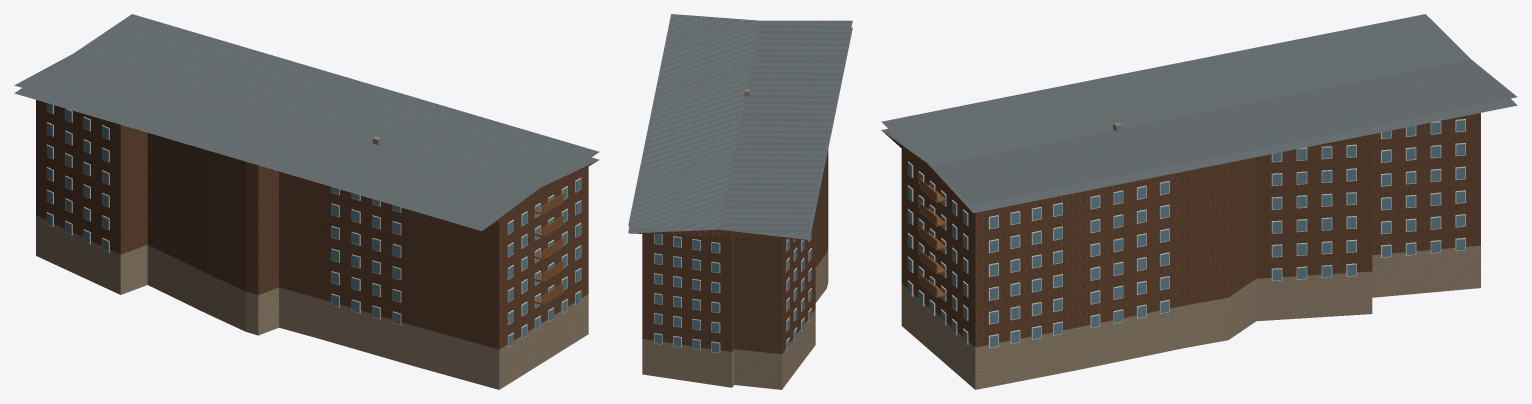
Rendered from core_0016.gltf.
3 renders of one model, left to right at view 1: azimuth 30°, elevation 25°; view 2: azimuth 150°, elevation 25°; view 3: azimuth 270°, elevation 25°, orthographic. The views are drawn at different scales.
Visible parts, largest first — view 1: core_0016; view 2: core_0016; view 3: core_0016.
Boxes of the visible parts, x1,y1,x2,y2 form: core_0016: (14, 14, 599, 389); core_0016: (628, 14, 852, 389); core_0016: (881, 14, 1517, 389).
Bounding box in the file's own units: 49.09 × 22.95 × 69.16.
7 materials, 7 textured.
